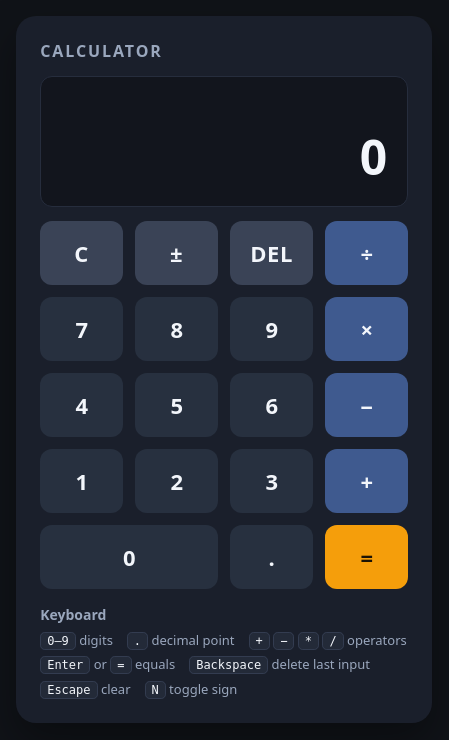
it: App › shows the pending expression above the current value while typing
Click the button "1" at (82, 481), box [40,449,123,513]
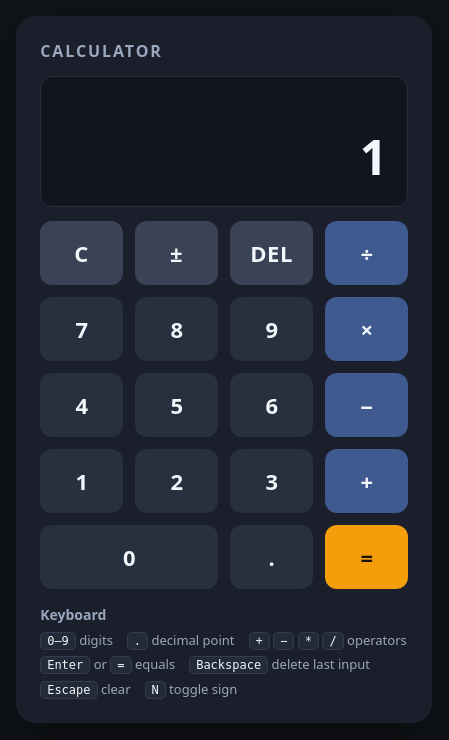
Click the button "2" at (177, 481), box [135,449,218,513]
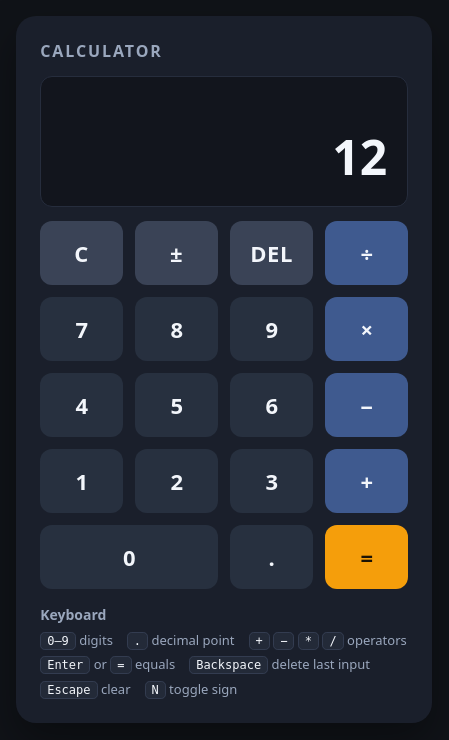
Result: the message reads "12" at [332,124,387,189]
Click the button named "add" at (367, 481), box [325,449,408,513]
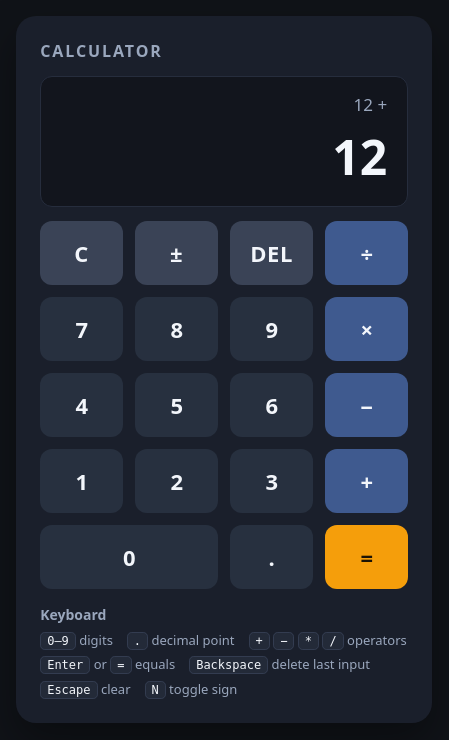
Result: the message reads "12" at [332,124,387,189]
Result: the text "12 +" is shown at [354,93,387,116]
Click the button "5" at (177, 405), box [135,373,218,437]
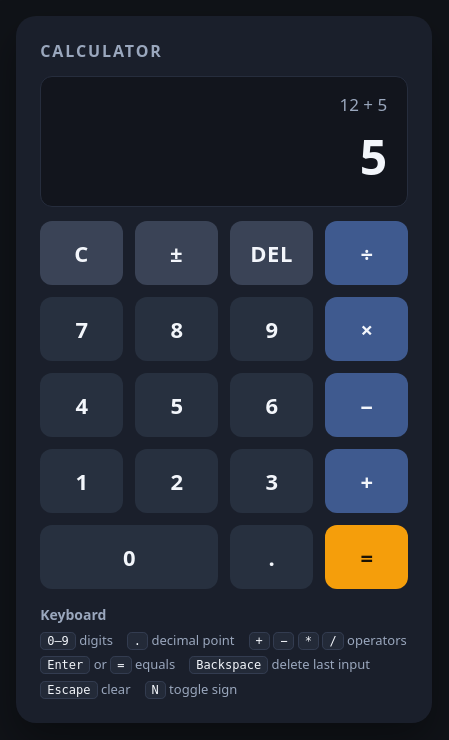
Result: the text "12 + 5" is shown at [339,93,387,116]
Result: the message reads "5" at [360,124,387,189]
